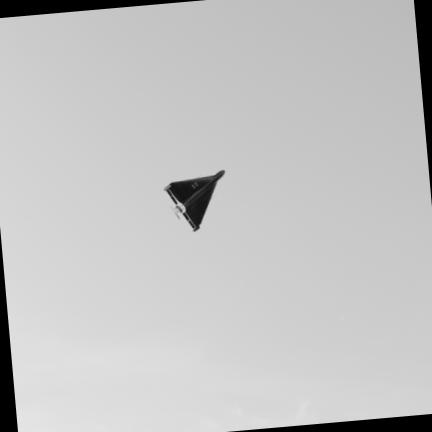Shahed: (164, 171, 224, 231)
